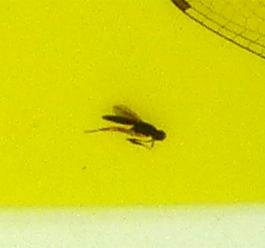Hymenoptera: (100, 100, 165, 148)
